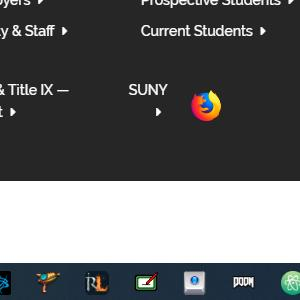firefox: (191, 88, 221, 122)
